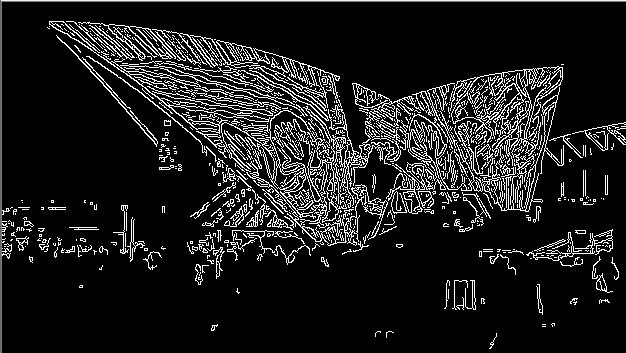opera house: (45, 16, 574, 243)
